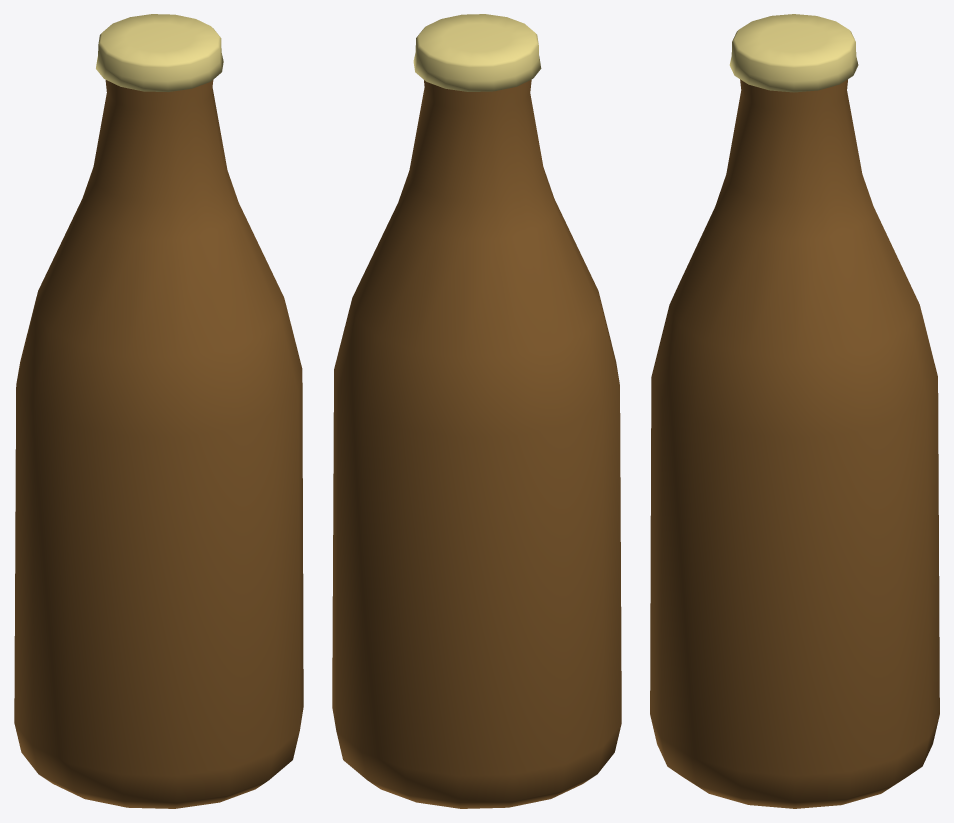
File: bottle_stubby_lod2.glb
3 renders of one model, left to right at view 1: azimuth 30°, elevation 25°; view 2: azimuth 150°, elevation 25°; view 3: azimuth 270°, elevation 25°, orthographic.
Visible parts, largest first — view 1: Glass, Cap; view 2: Glass, Cap; view 3: Glass, Cap.
Boxes of the visible parts, x1,y1,x2,y2 form: Glass: (14, 80, 303, 808); Cap: (96, 14, 223, 91); Glass: (332, 79, 621, 808); Cap: (413, 14, 541, 91); Glass: (650, 79, 939, 808); Cap: (729, 14, 858, 92).
Size of the model in its own units: 0.0679 by 0.1848 by 0.0674.
